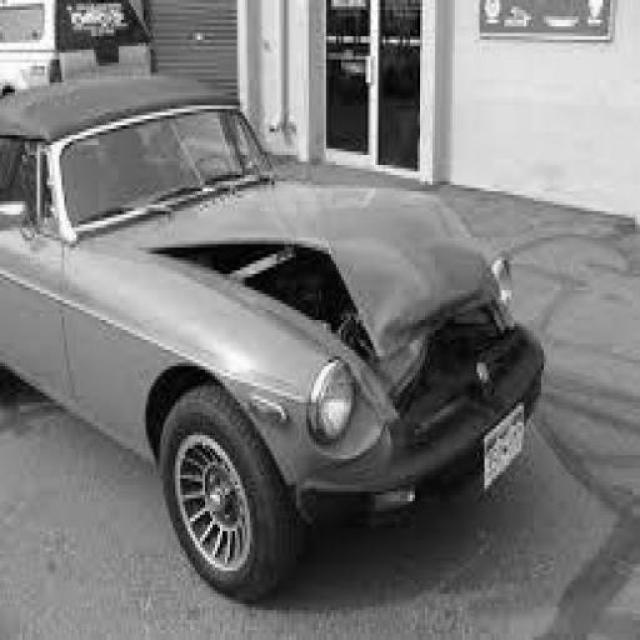crush: (132, 185, 527, 449)
